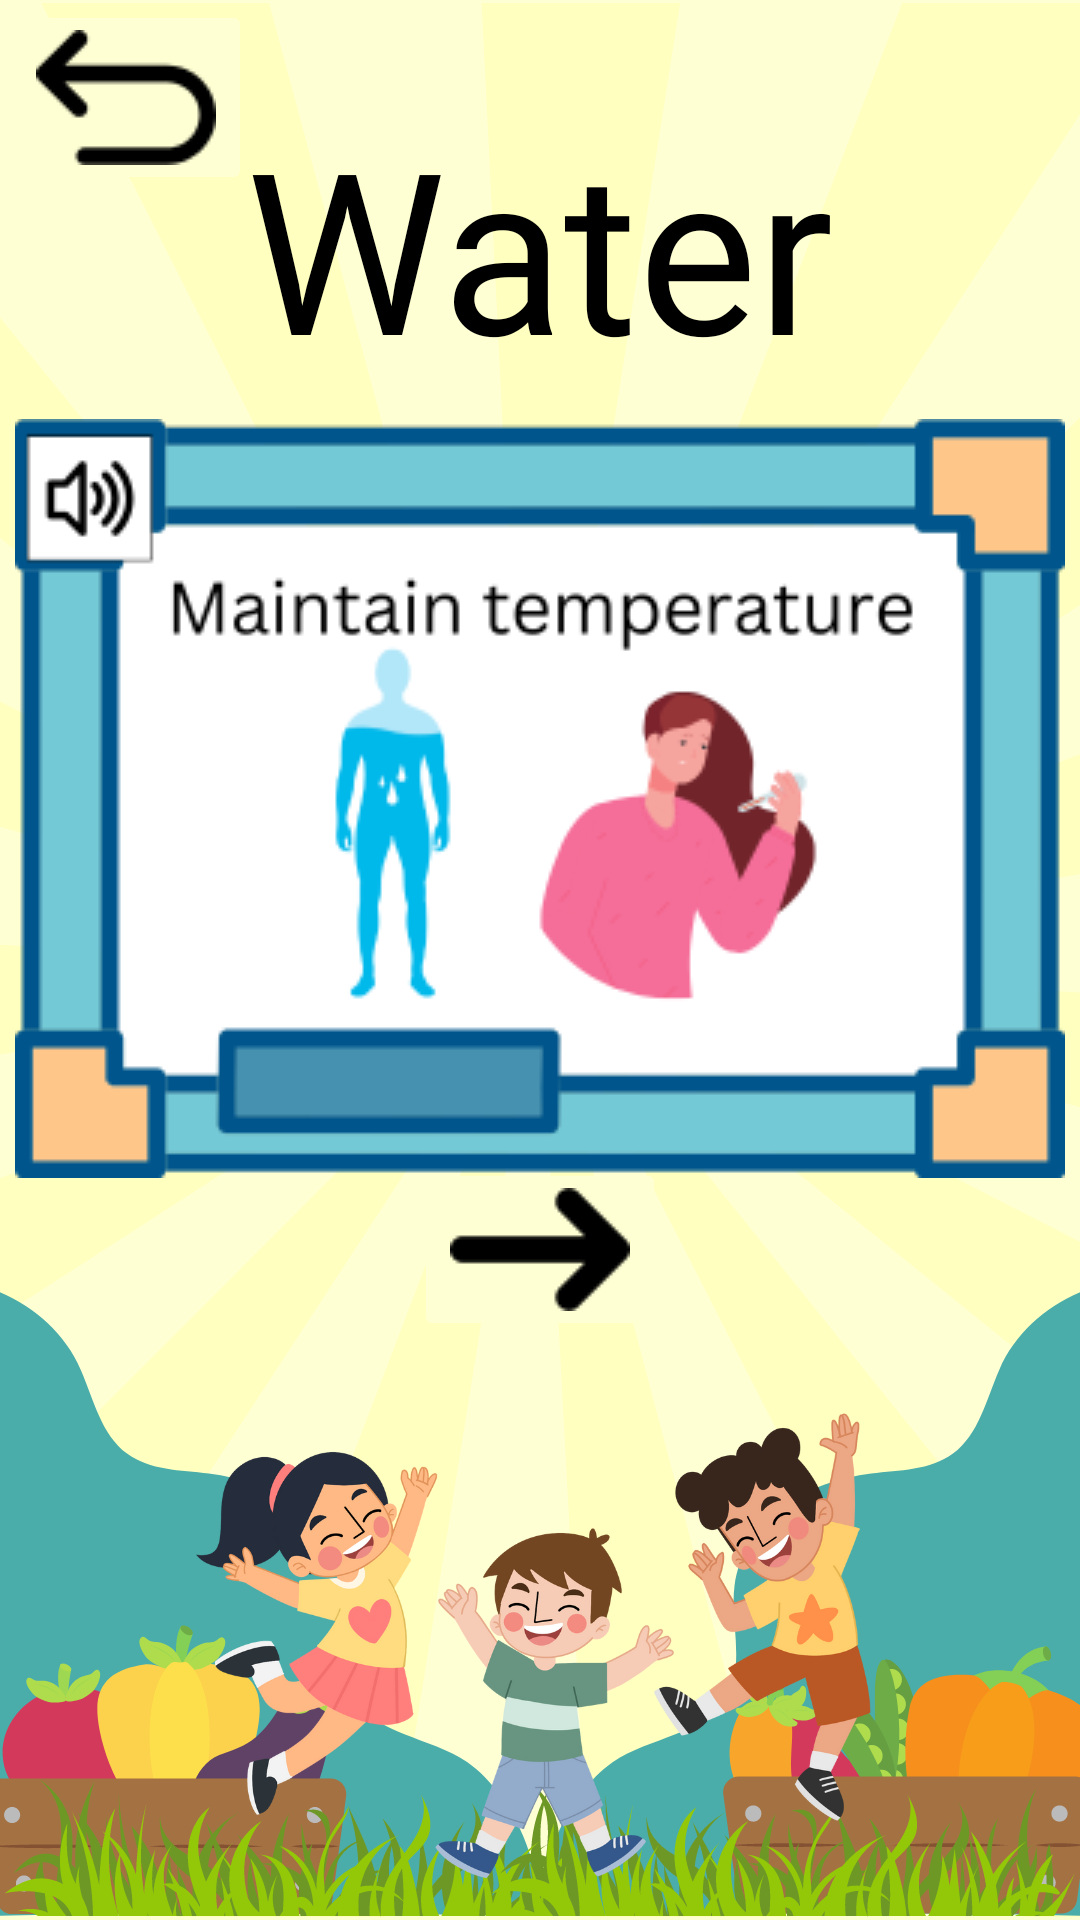

Locate icon controls on the screen. Image size 1080*1920, boxes as (x1, y1, x2, y2).
Back: (36, 30, 216, 165)
Next button: (450, 1188, 630, 1311)
